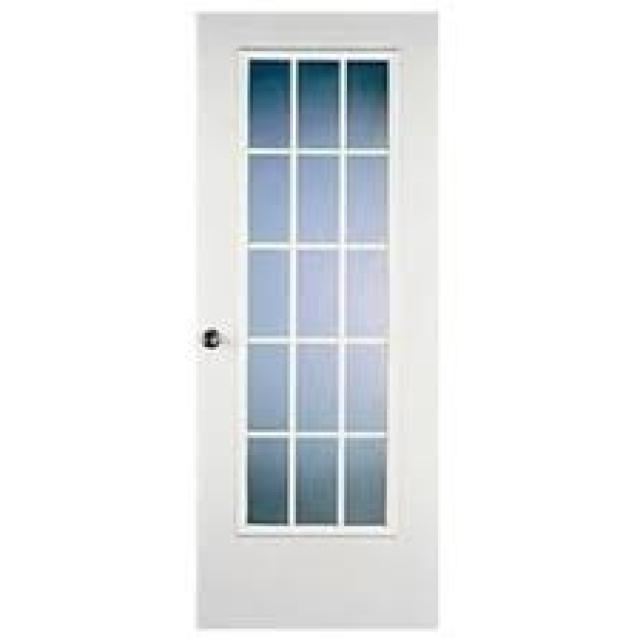door: (195, 13, 439, 630)
